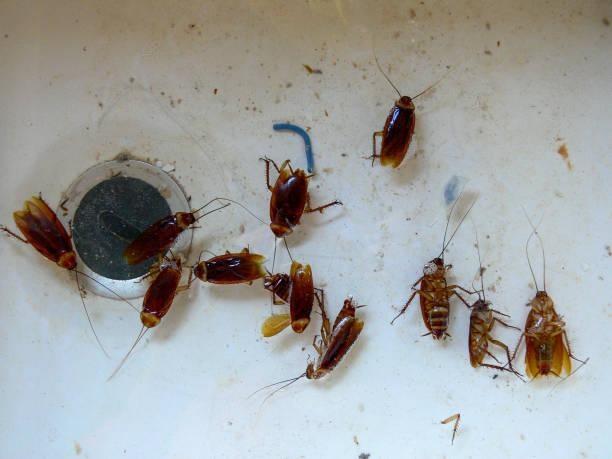cockroach: (0, 179, 140, 361), (335, 37, 480, 187), (253, 279, 378, 440), (226, 137, 360, 275), (110, 248, 208, 410), (99, 161, 247, 267), (506, 224, 587, 416), (385, 192, 475, 352), (232, 226, 327, 353), (441, 257, 516, 389), (161, 225, 278, 290)
